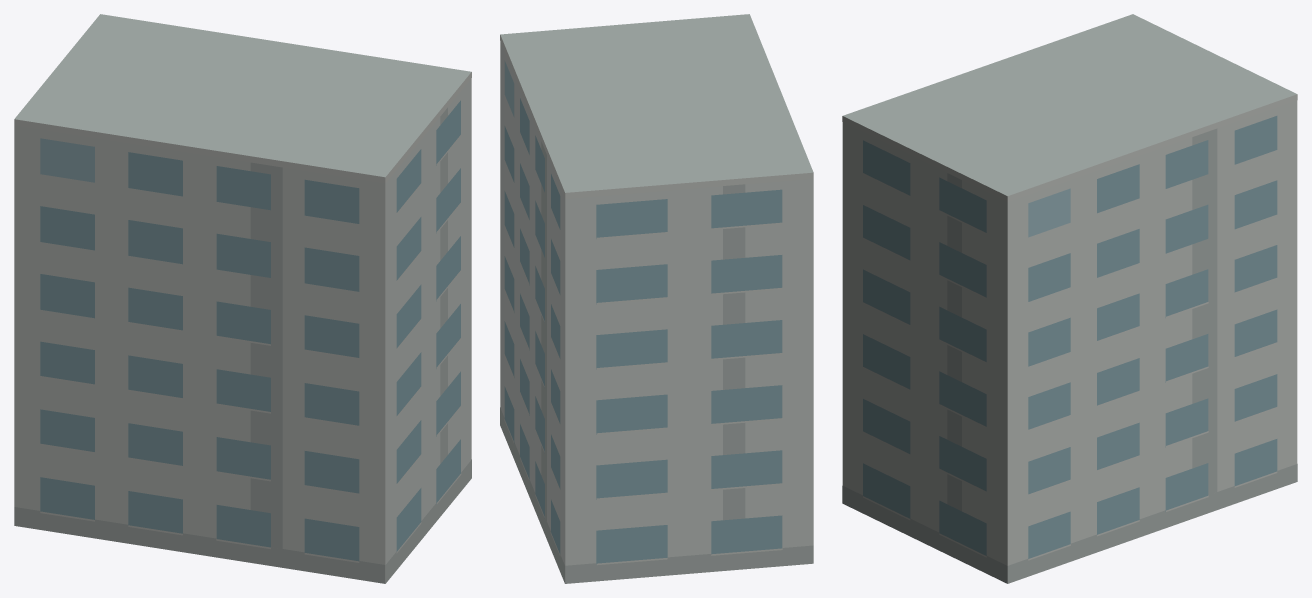
The model's file is survey-upis-32850328.glb.
The picture shows the model from 3 angles, left to right: view 1: azimuth 30°, elevation 25°; view 2: azimuth 150°, elevation 25°; view 3: azimuth 270°, elevation 25°; orthographic projection. The views are drawn at different scales.
Parts seen in each view (by area): view 1: survey-upis-32850328.tmp; view 2: survey-upis-32850328.tmp; view 3: survey-upis-32850328.tmp.
Part boxes in pixels (x1=…): survey-upis-32850328.tmp: x1=14, y1=14, x2=471, y2=583; survey-upis-32850328.tmp: x1=500, y1=14, x2=813, y2=583; survey-upis-32850328.tmp: x1=842, y1=14, x2=1297, y2=583.
Bounding box in the file's own units: 15.84 × 15.7 × 16.71.
